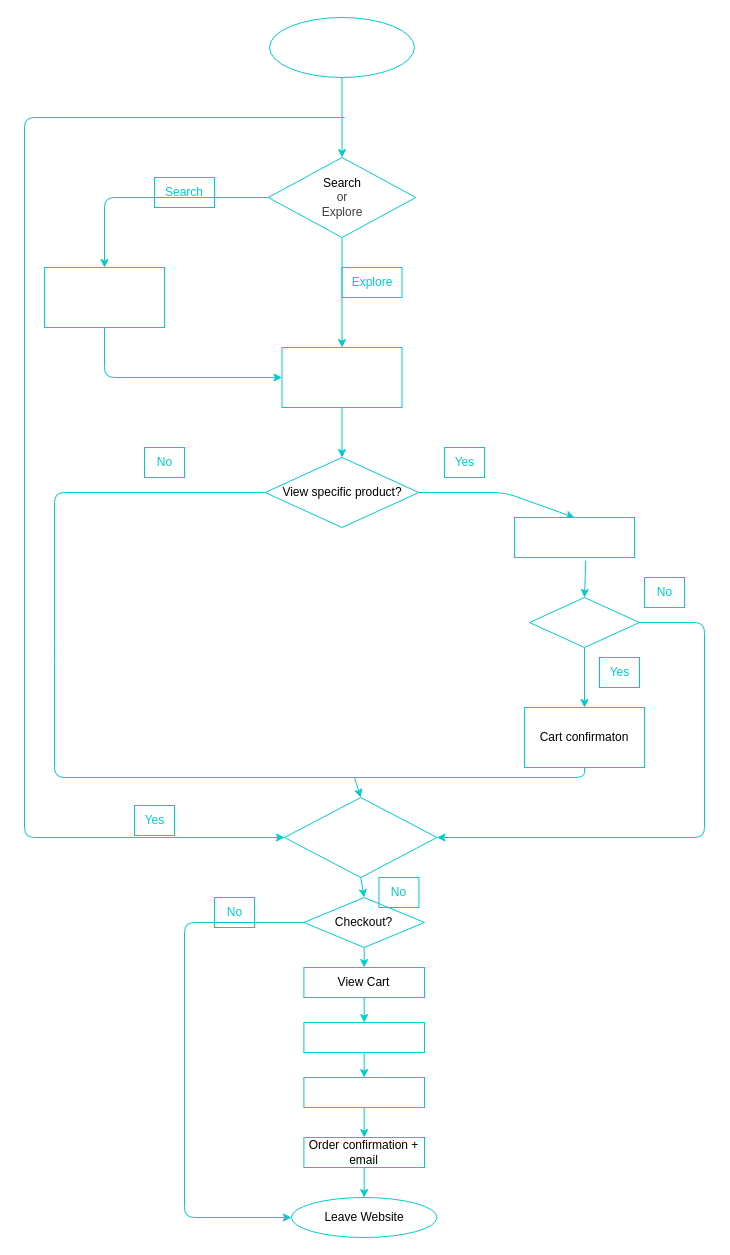
Some shapes in this 730 by 1255 pixel diagram are drawn without their labels. The shapes that lost their labels are listed below. From the top down, each one's centre as x and y in pixels, then its label:
the point at 341,47: Enter Website
the point at 104,297: Input Search
the point at 341,377: Look at products
the point at 574,537: Product page opens
the point at 584,622: Add to cart?
the point at 360,837: Continue shopping?
the point at 363,1037: View Payment
the point at 363,1092: Input payment info
